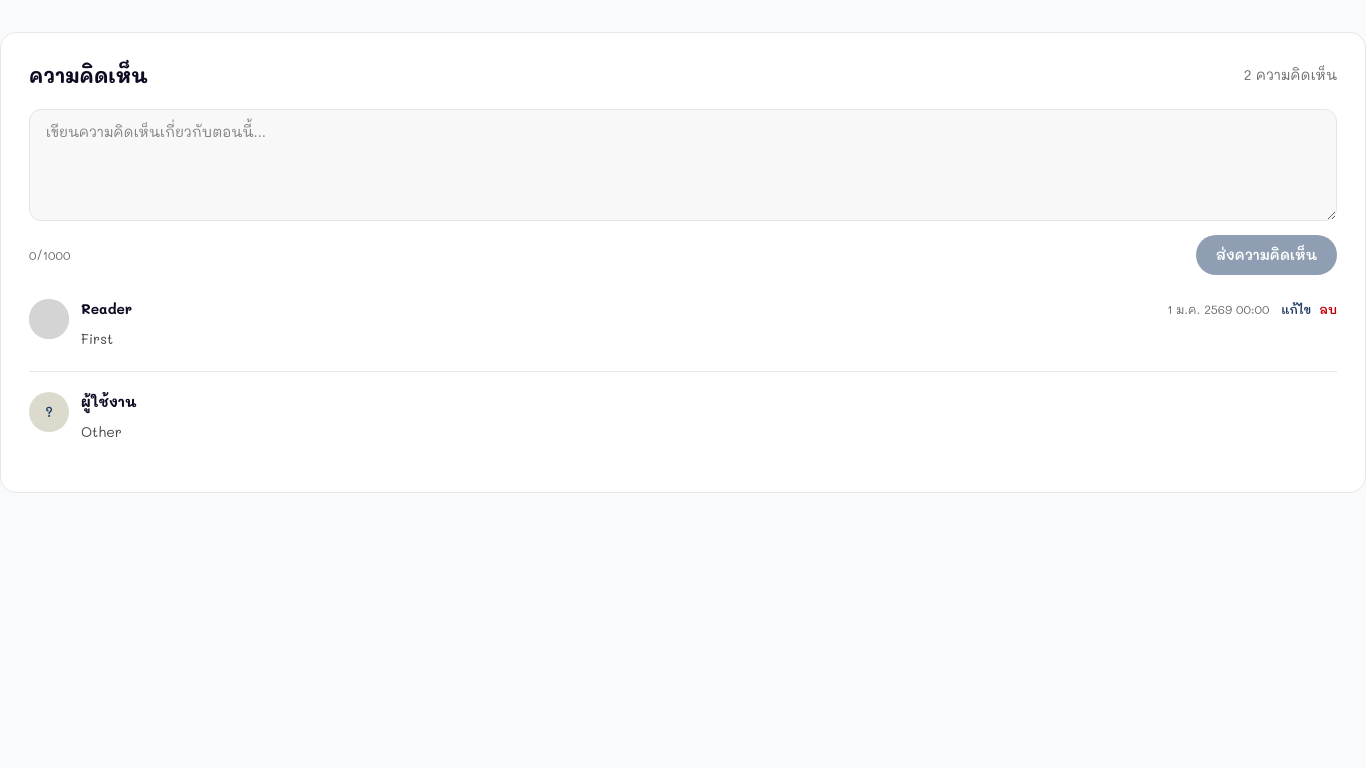
Test case: failed comment delete preserves data and presents the error
Click the button "ลบ" at (1328, 309), box [1319,301,1337,317]
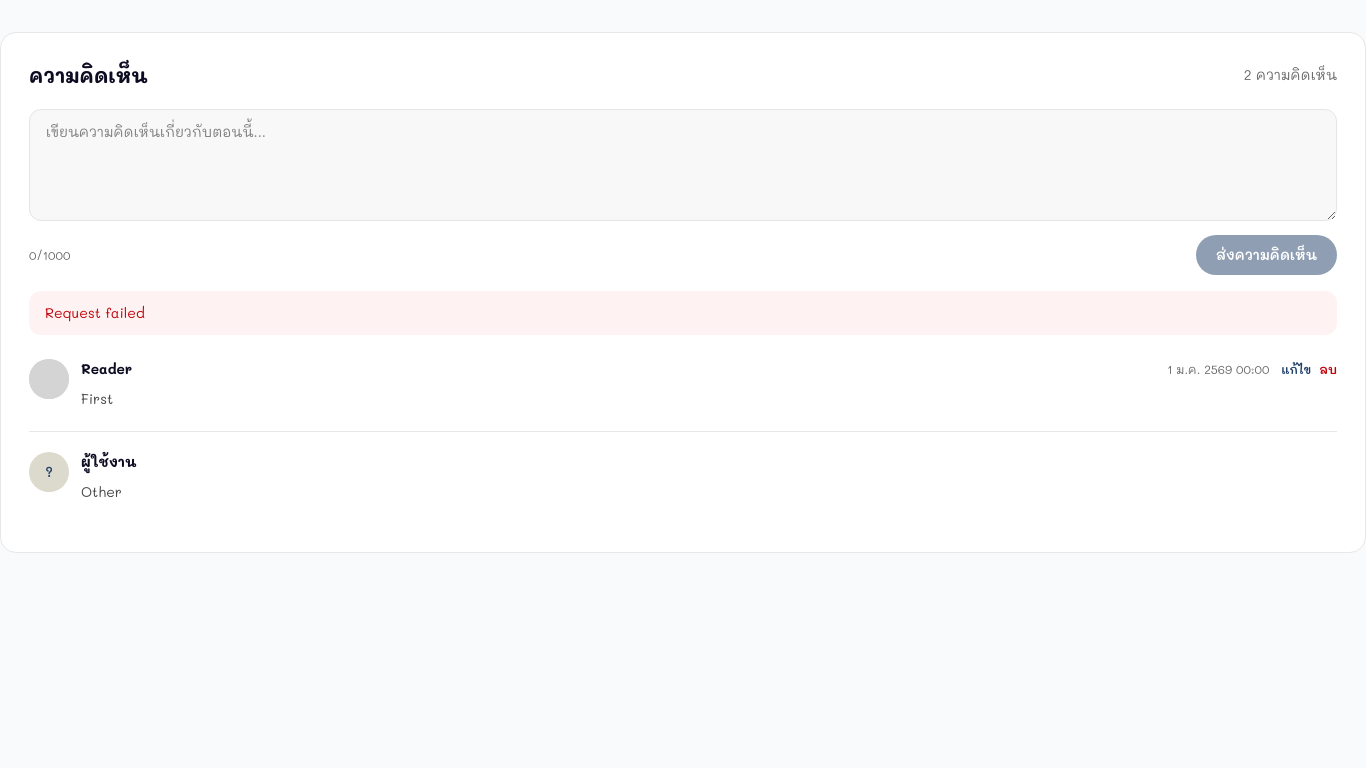
Check: the message "Request failed" is shown, box [29,291,1337,335]
